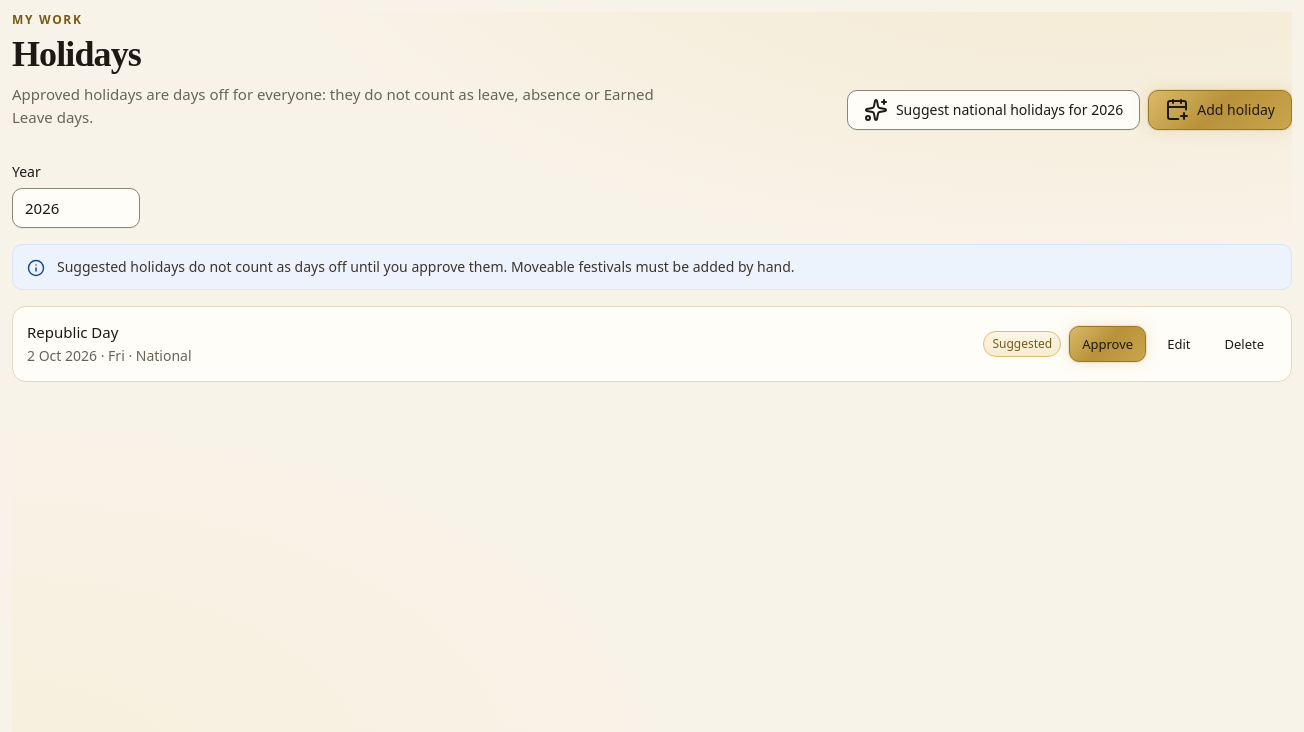
it: HolidaysPage › HR sees suggestions as not counting, approves one, and gets the server error if it fails
This screenshot has width=1304, height=732.
Check: the text "Suggested holidays do not count as days off until you approve them" is shown, box [57,256,794,276]
Step 1. Click the button "Approve" → (1108, 344), box [1069,326,1146,362]
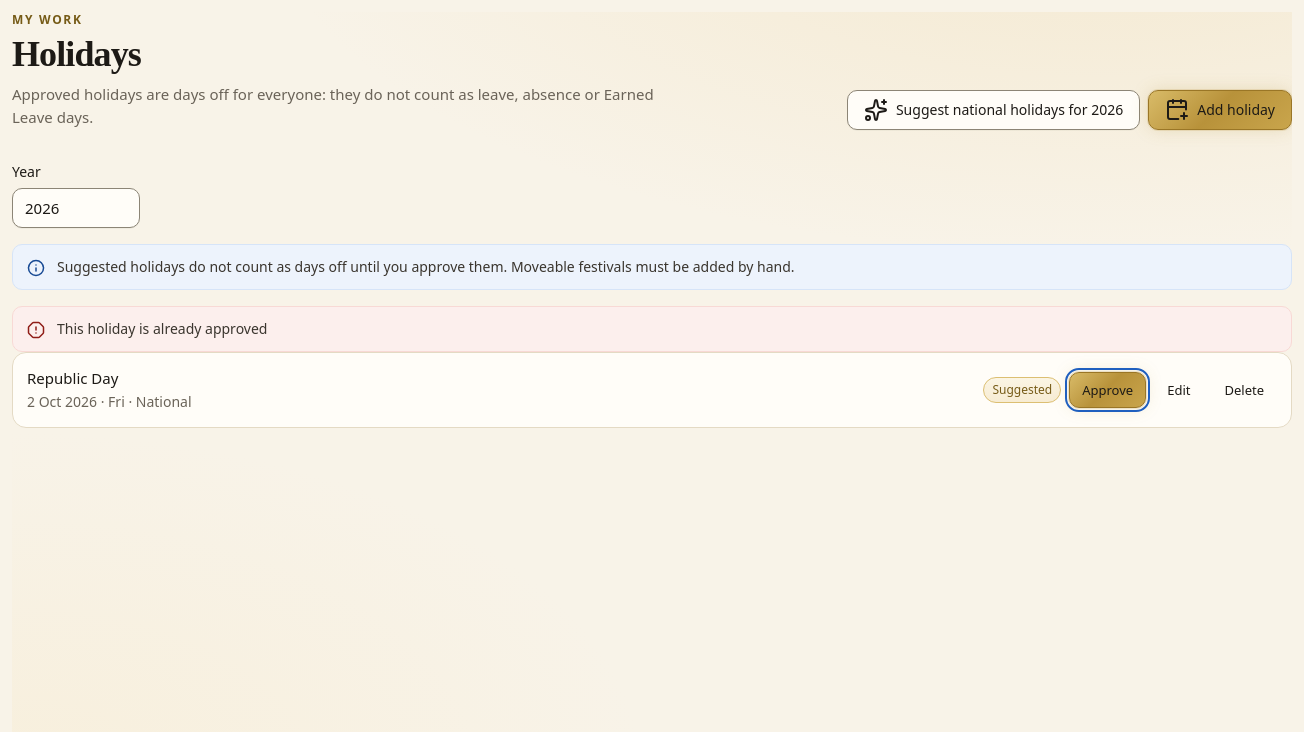
Check: the text "This holiday is already approved" is shown, box [57,318,267,338]
